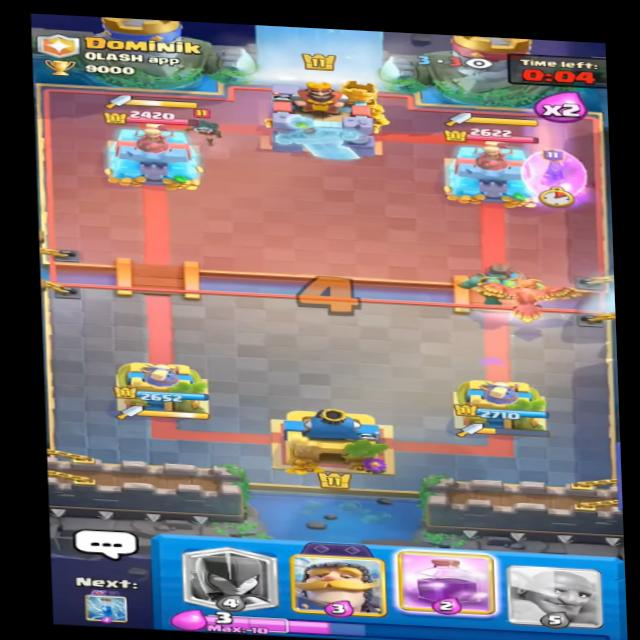bandit: (176, 107, 229, 147)
evo-wizard: (510, 144, 592, 205)
